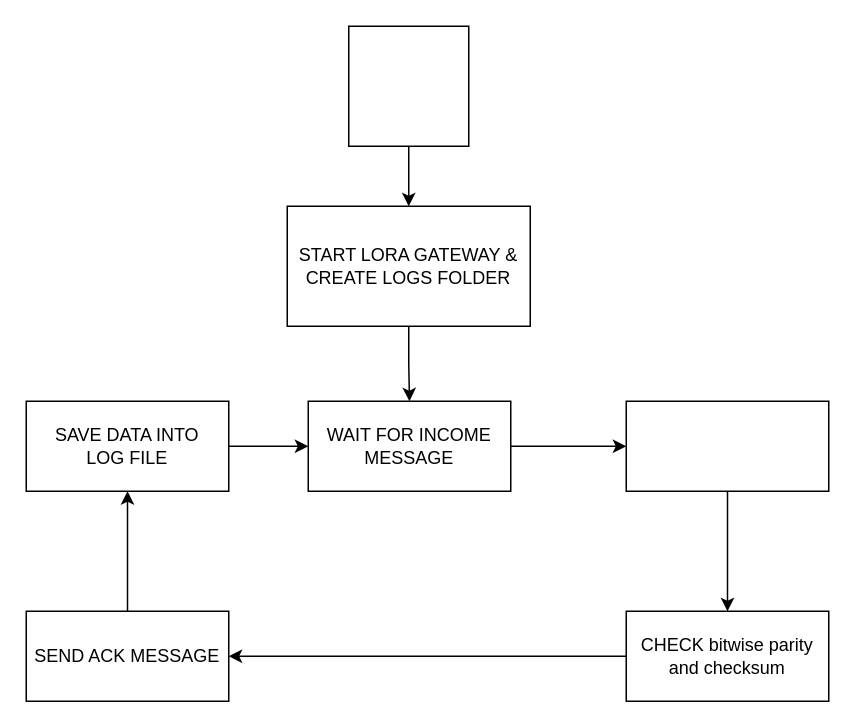
Image size: 855x728. Some labels were removed from this diagram. Here are the shapes that lost their labels. From the top down, the centre of each, then its label:
At point 408,85: "START PROGRAM".
At point 727,445: "DECODE INCOME MESSAGE".
